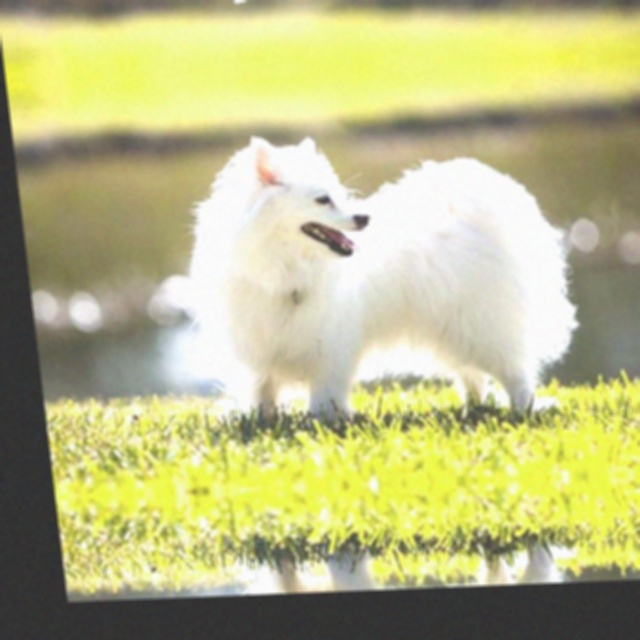dog: (150, 118, 594, 435), (199, 531, 614, 597)
